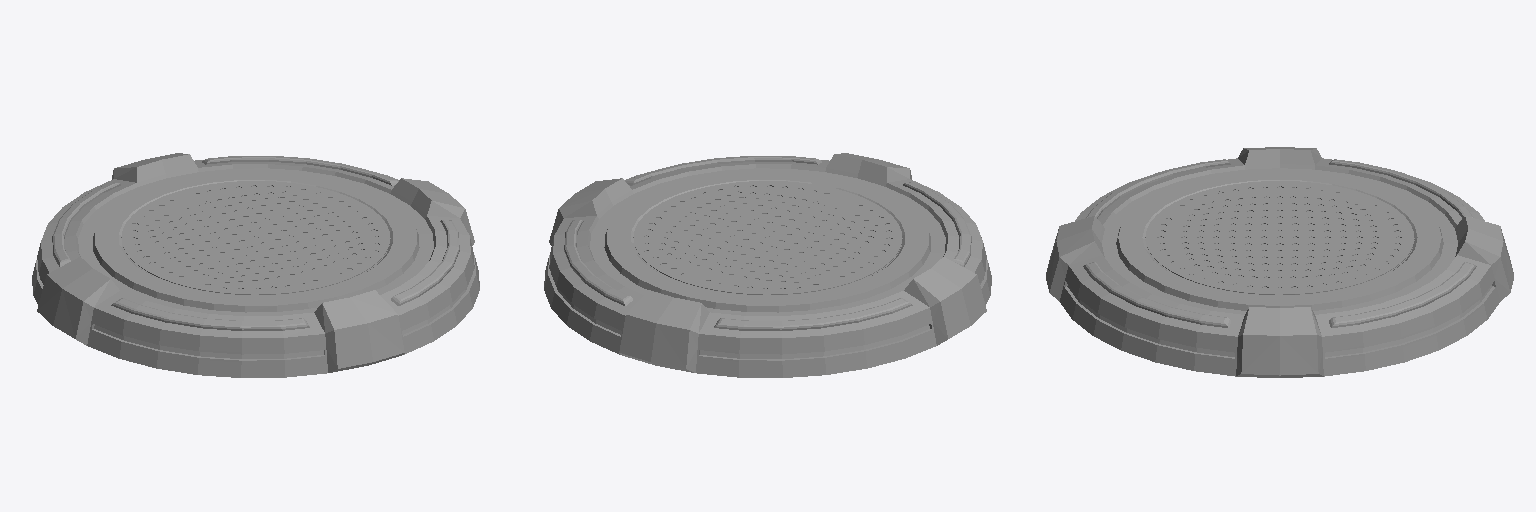
The model's file is transpo.obj.
3 views of the same model, side by side, from view 1: azimuth 30°, elevation 25°; view 2: azimuth 150°, elevation 25°; view 3: azimuth 270°, elevation 25° (orthographic).
Parts seen in each view (by area): view 1: tech_pedestal_Circle.001; view 2: tech_pedestal_Circle.001; view 3: tech_pedestal_Circle.001.
Boxes of the visible parts, x1,y1,x2,y2 form: tech_pedestal_Circle.001: [32, 153, 479, 377]; tech_pedestal_Circle.001: [544, 153, 991, 377]; tech_pedestal_Circle.001: [1046, 147, 1513, 377].
Bounding box in the file's own units: 5.4 × 0.6991 × 5.4.